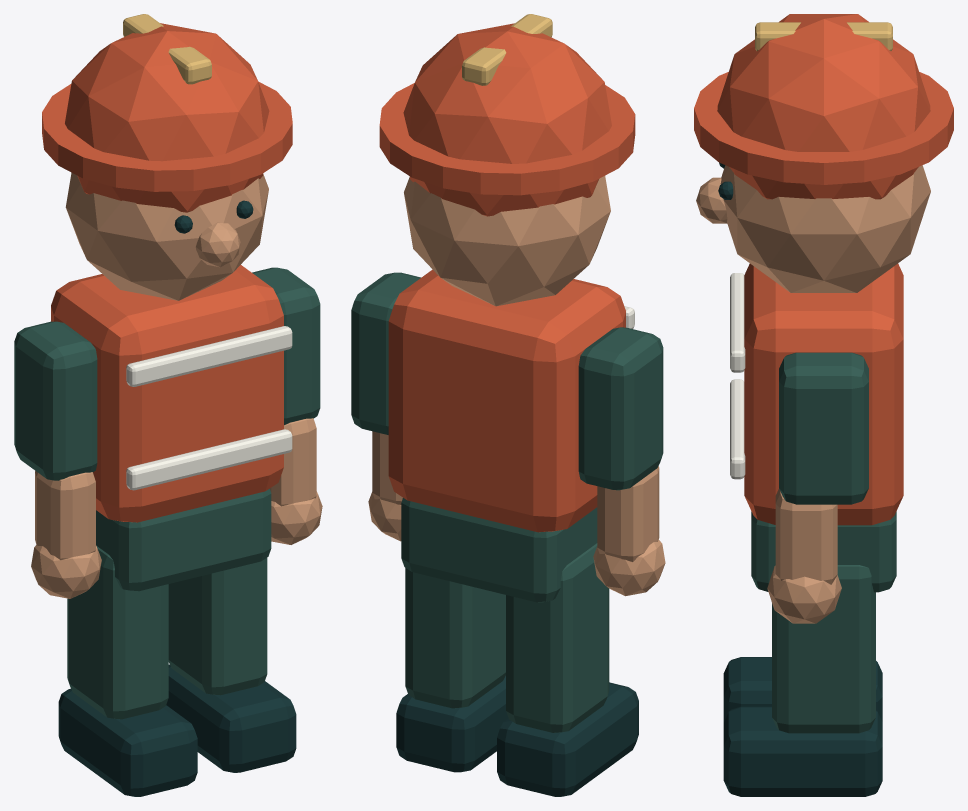
The model's file is worker.glb.
3 renders of one model, left to right at view 1: azimuth 30°, elevation 25°; view 2: azimuth 150°, elevation 25°; view 3: azimuth 270°, elevation 25°, orthographic. The views are drawn at different scales.
Visible parts, largest first — view 1: worker_vest, worker_hardhat, worker_head, worker_trouser_left, worker_sleeve_left, worker_pants, worker_trouser_right, worker_hardhat_brim, worker_boot_left, worker_boot_right, worker_sleeve_right, worker_forearm_left (+7 smaller); view 2: worker_vest, worker_hardhat, worker_head, worker_trouser_left, worker_pants, worker_sleeve_left, worker_trouser_right, worker_hardhat_brim, worker_boot_left, worker_boot_right, worker_sleeve_right, worker_forearm_left (+4 smaller); view 3: worker_hardhat, worker_vest, worker_head, worker_trouser_right, worker_sleeve_right, worker_boot_right, worker_hardhat_brim, worker_forearm_right, worker_pants, worker_boot_left, worker_hand_right, worker_hat_ridge (+3 smaller).
Boxes of the visible parts, box(x1,y1,x2,y2) form: worker_vest: box(51, 265, 283, 522); worker_hardhat: box(65, 23, 269, 212); worker_head: box(65, 172, 268, 300); worker_trouser_left: box(67, 546, 168, 719); worker_sleeve_left: box(14, 321, 97, 480); worker_pants: box(96, 488, 271, 591); worker_trouser_right: box(168, 558, 267, 695); worker_hardhat_brim: box(42, 81, 292, 191); worker_boot_left: box(58, 688, 197, 796); worker_boot_right: box(166, 664, 296, 772); worker_sleeve_right: box(252, 267, 320, 425); worker_forearm_left: box(35, 471, 95, 560); worker_vest: box(388, 269, 625, 532); worker_hardhat: box(403, 23, 611, 216); worker_head: box(404, 176, 610, 306); worker_trouser_left: box(506, 543, 609, 732); worker_pants: box(401, 498, 597, 602); worker_sleeve_left: box(578, 327, 663, 490); worker_trouser_right: box(405, 568, 505, 708); worker_hardhat_brim: box(379, 83, 635, 195); worker_boot_left: box(497, 682, 638, 796); worker_boot_right: box(396, 675, 508, 772); worker_sleeve_right: box(351, 272, 420, 434); worker_forearm_left: box(597, 466, 659, 561); worker_hardhat: box(717, 14, 930, 199); worker_vest: box(744, 263, 903, 525); worker_head: box(720, 165, 930, 292); worker_trouser_right: box(772, 565, 875, 733); worker_sleeve_right: box(779, 352, 868, 504); worker_boot_right: box(723, 706, 882, 796); worker_hardhat_brim: box(694, 72, 953, 184); worker_forearm_right: box(775, 489, 837, 584); worker_pants: box(751, 511, 896, 592); worker_boot_left: box(723, 657, 882, 722); worker_hand_right: box(767, 565, 841, 623); worker_hat_ridge: box(755, 22, 892, 50).
Size of the model in its own units: 0.4827 by 1.18 by 0.376.
